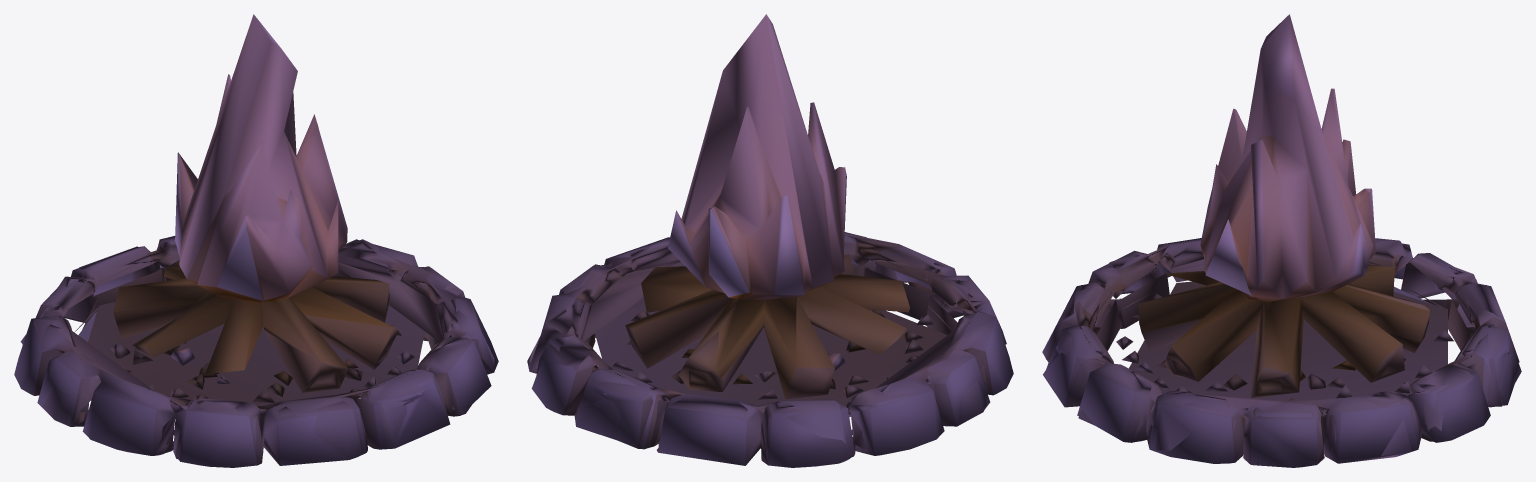
File: model.progressive.glb
3 renders of one model, left to right at view 1: azimuth 30°, elevation 25°; view 2: azimuth 150°, elevation 25°; view 3: azimuth 270°, elevation 25°, orthographic.
Visible parts, largest first — view 1: material; view 2: material; view 3: material.
Part boxes in pixels (x1,y1,x2,y2): material: (14,14,498,467); material: (527,14,1013,467); material: (1042,14,1521,467).
Size of the model in its own units: 1.89 by 1.52 by 1.88.
Materials: 1 (1 with a texture image).
